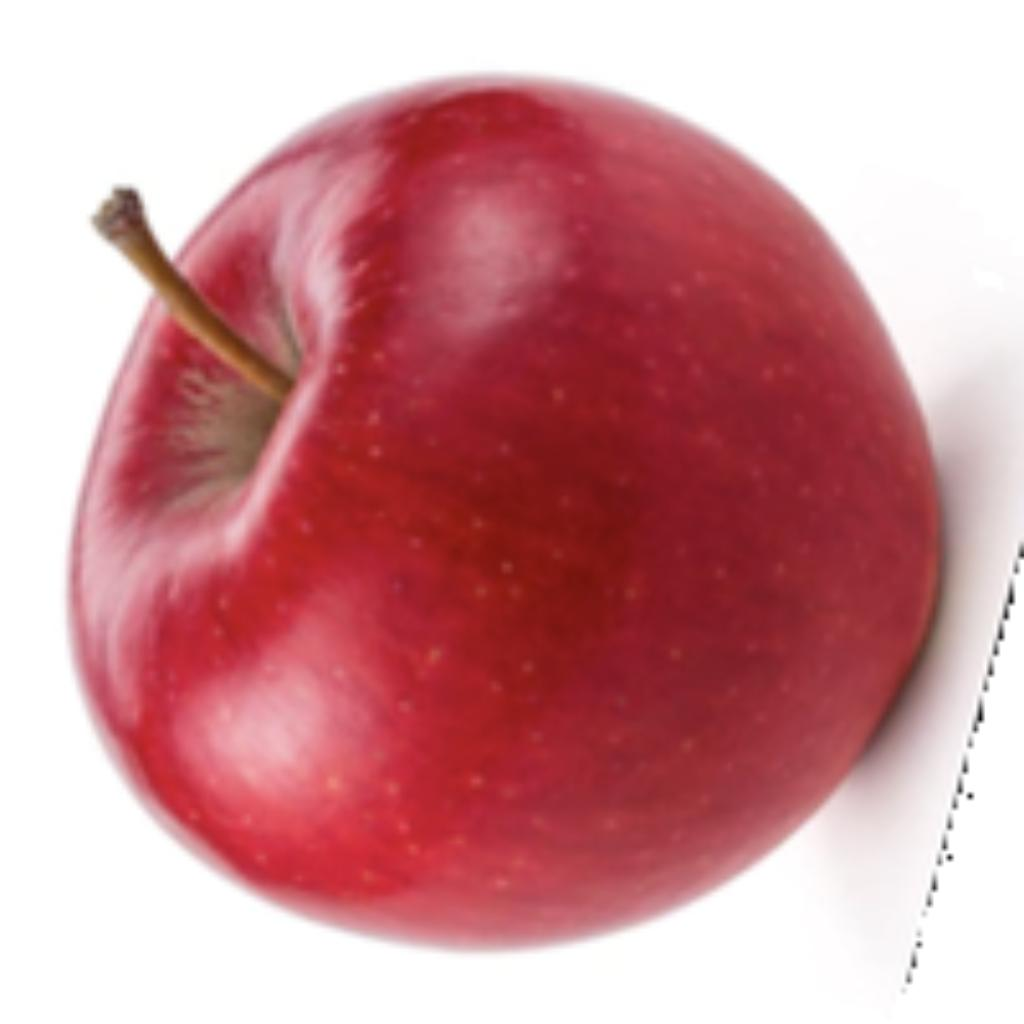apple: (56, 67, 1019, 957)
